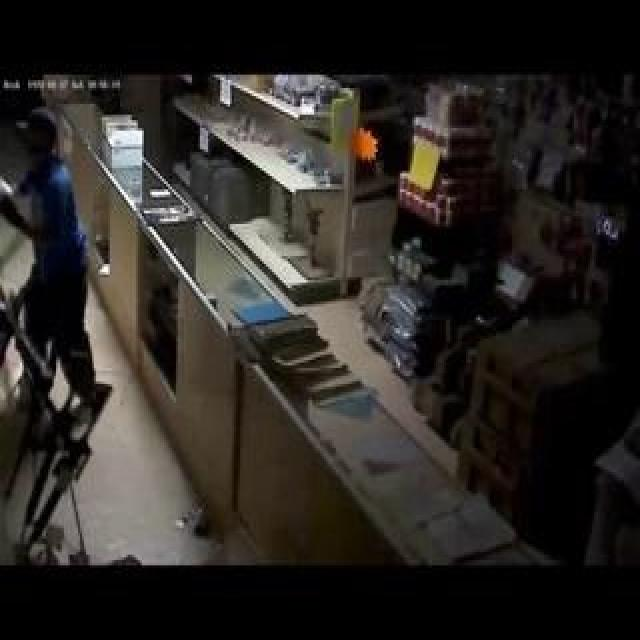thief: (6, 102, 101, 295)
